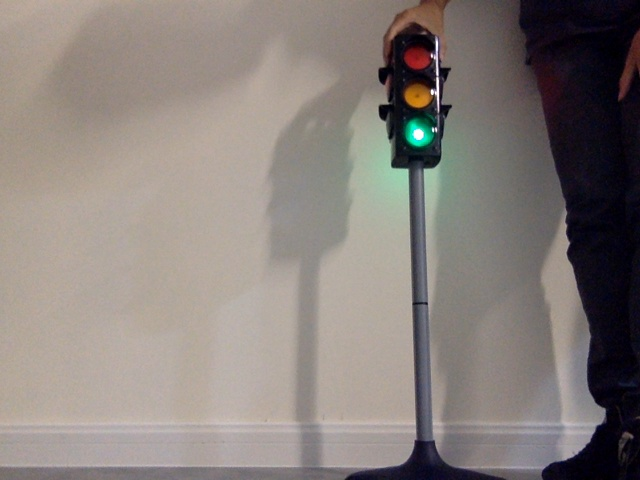green: (399, 36, 435, 151)
